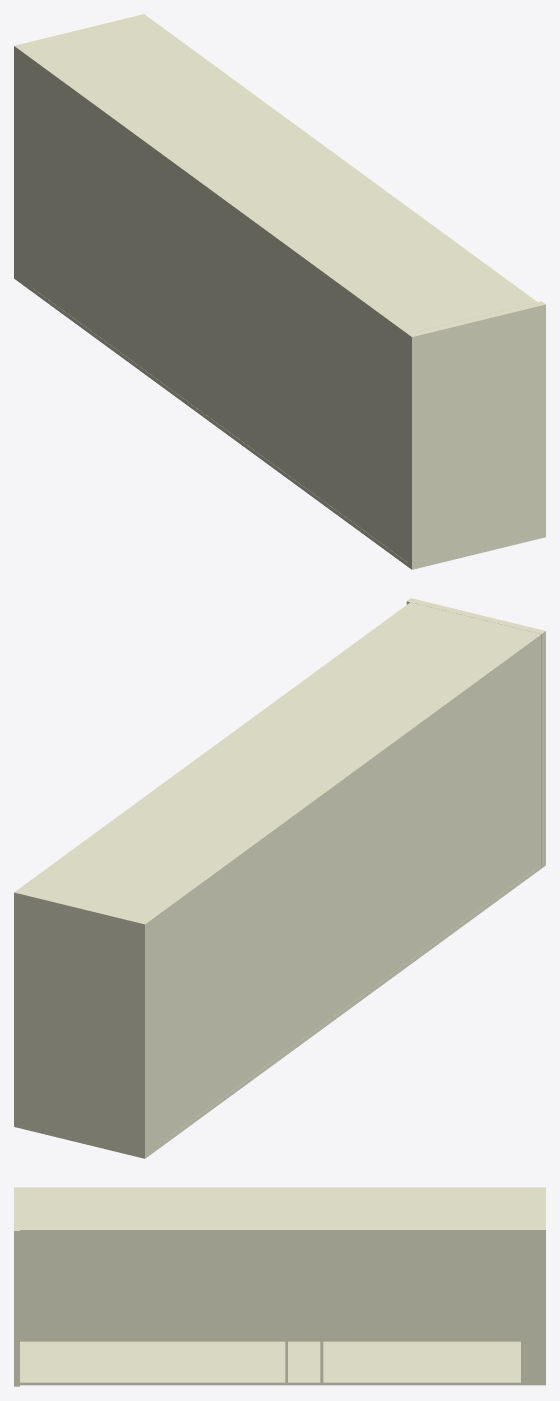
3 views of the same model, one above another, from view 1: azimuth 30°, elevation 25°; view 2: azimuth 150°, elevation 25°; view 3: azimuth 270°, elevation 25° (orthographic). The views are drawn at different scales.
Visible parts, largest first — view 1: ROOT_link (×5); view 2: ROOT_link (×5); view 3: ROOT_link (×7).
Boxes of the visible parts, bbox=[...] form: ROOT_link (×5): bbox=[14, 14, 545, 569]; ROOT_link (×5): bbox=[14, 598, 545, 1158]; ROOT_link (×7): bbox=[14, 1187, 545, 1386].
Bounding box in the file's own units: 0.353 × 0.586 × 1.82.
